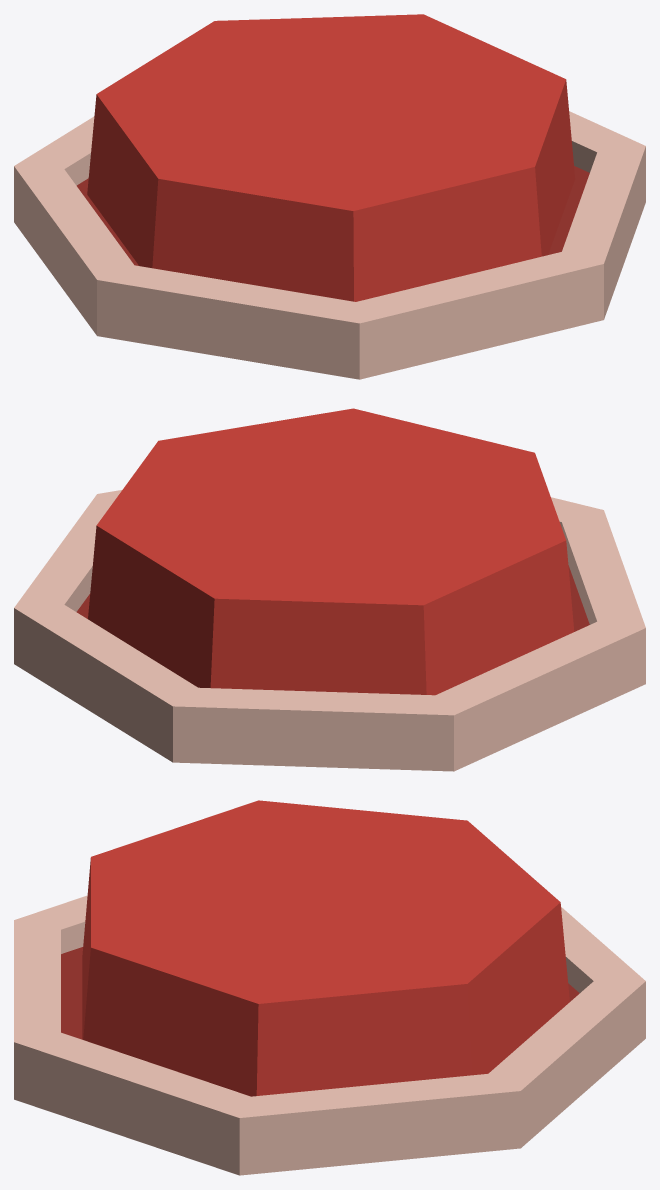
The model's file is LobbyButton.fbx.
3 renders of one model, top to bottom at view 1: azimuth 30°, elevation 25°; view 2: azimuth 150°, elevation 25°; view 3: azimuth 270°, elevation 25°, orthographic. The views are drawn at different scales.
Visible parts, largest first — view 1: Button, Basement; view 2: Button, Basement; view 3: Button, Basement.
Part boxes in pixels (bbox=[...]): Button: bbox=[87, 14, 575, 301]; Basement: bbox=[14, 111, 645, 379]; Button: bbox=[88, 408, 574, 695]; Basement: bbox=[14, 490, 645, 771]; Button: bbox=[82, 800, 569, 1096]; Basement: bbox=[14, 895, 645, 1175].
Size of the model in its own units: 301 by 69.99 by 294.
